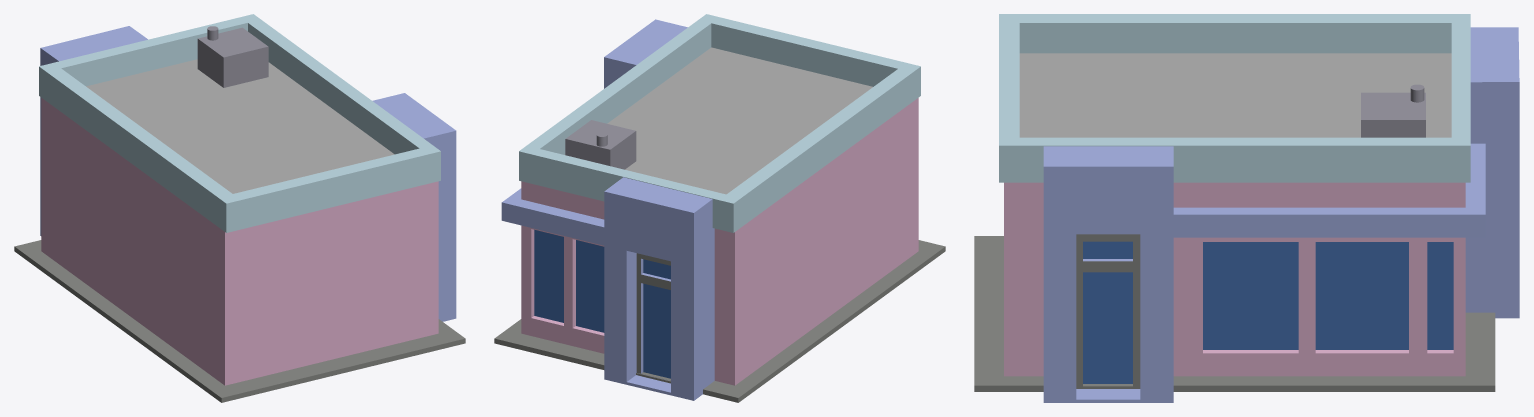
File: Fastfoodplace.fbx
3 renders of one model, left to right at view 1: azimuth 30°, elevation 25°; view 2: azimuth 150°, elevation 25°; view 3: azimuth 270°, elevation 25°, orthographic. The views are drawn at different scales.
Visible parts, largest first — view 1: Cube, Cube.004, Cube.006, Cube.001, Cube.007, Cube.002; view 2: Cube.004, Cube, Cube.002, Cube.006, Cube.003, Cube.007, Cube.001; view 3: Cube.004, Cube, Cube.001, Cube.002, Cube.006, Cube.003, Cube.007.
Boxes of the visible parts, left/top/right/bottom form: Cube: left=41, top=98, right=438, bottom=385; Cube.004: left=39, top=14, right=440, bottom=232; Cube.006: left=14, top=240, right=465, bottom=402; Cube.001: left=372, top=93, right=456, bottom=321; Cube.007: left=197, top=27, right=268, bottom=87; Cube.002: left=40, top=26, right=147, bottom=235; Cube.004: left=519, top=14, right=920, bottom=232; Cube: left=521, top=98, right=918, bottom=385; Cube.002: left=604, top=177, right=714, bottom=400; Cube.006: left=494, top=240, right=945, bottom=402; Cube.003: left=501, top=188, right=604, bottom=245; Cube.007: left=565, top=120, right=636, bottom=169; Cube.001: left=604, top=19, right=687, bottom=88; Cube.004: left=999, top=14, right=1470, bottom=182; Cube: left=1004, top=182, right=1465, bottom=376; Cube.001: left=1043, top=146, right=1173, bottom=402; Cube.002: left=1465, top=27, right=1519, bottom=318; Cube.006: left=974, top=236, right=1495, bottom=391; Cube.003: left=1173, top=143, right=1485, bottom=237; Cube.007: left=1361, top=92, right=1425, bottom=137.
Size of the model in its own units: 496 by 370 by 710.
